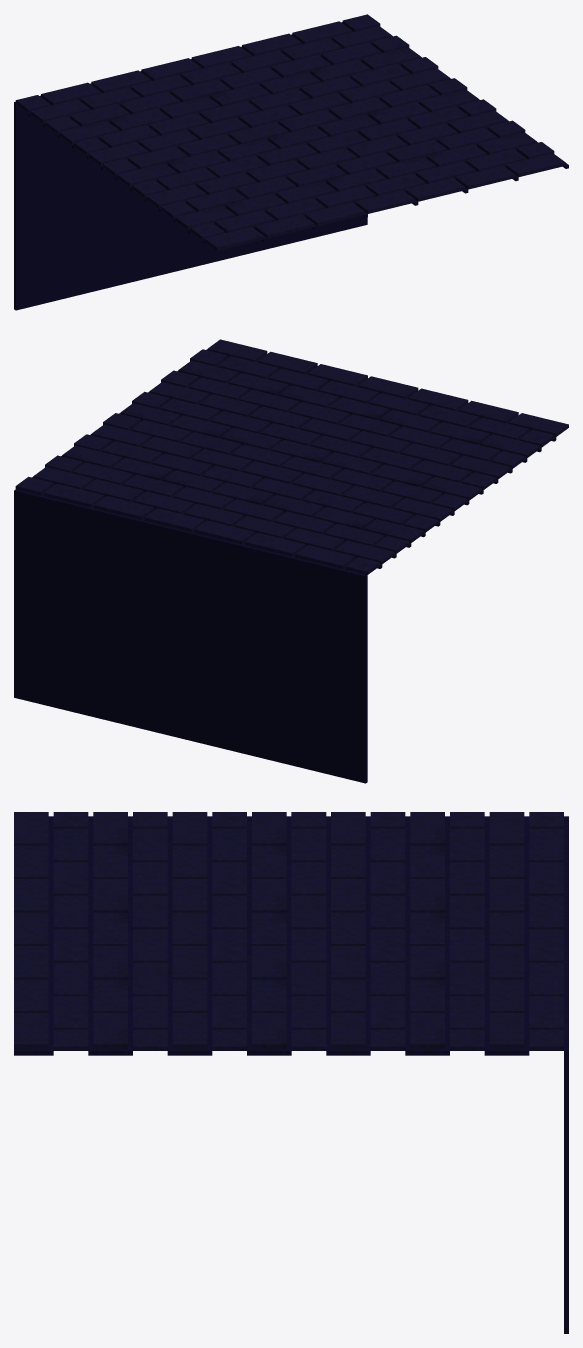
File: flooring_prophet-2.obj
The picture shows the model from 3 angles, top to bottom: view 1: azimuth 30°, elevation 25°; view 2: azimuth 150°, elevation 25°; view 3: azimuth 270°, elevation 25°; orthographic projection. The views are drawn at different scales.
Size of the model in its own units: 11.2 by 6.4 by 11.2.
